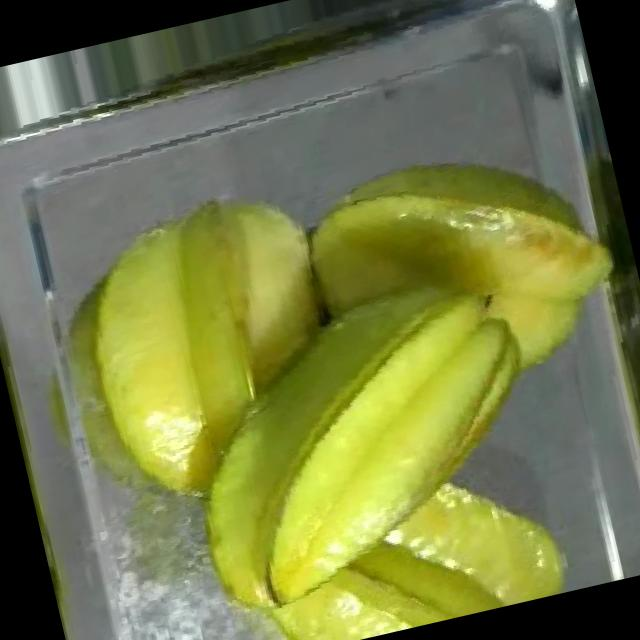fruit: (124, 208, 578, 590), (276, 112, 640, 459), (46, 164, 378, 526), (235, 445, 585, 640)
